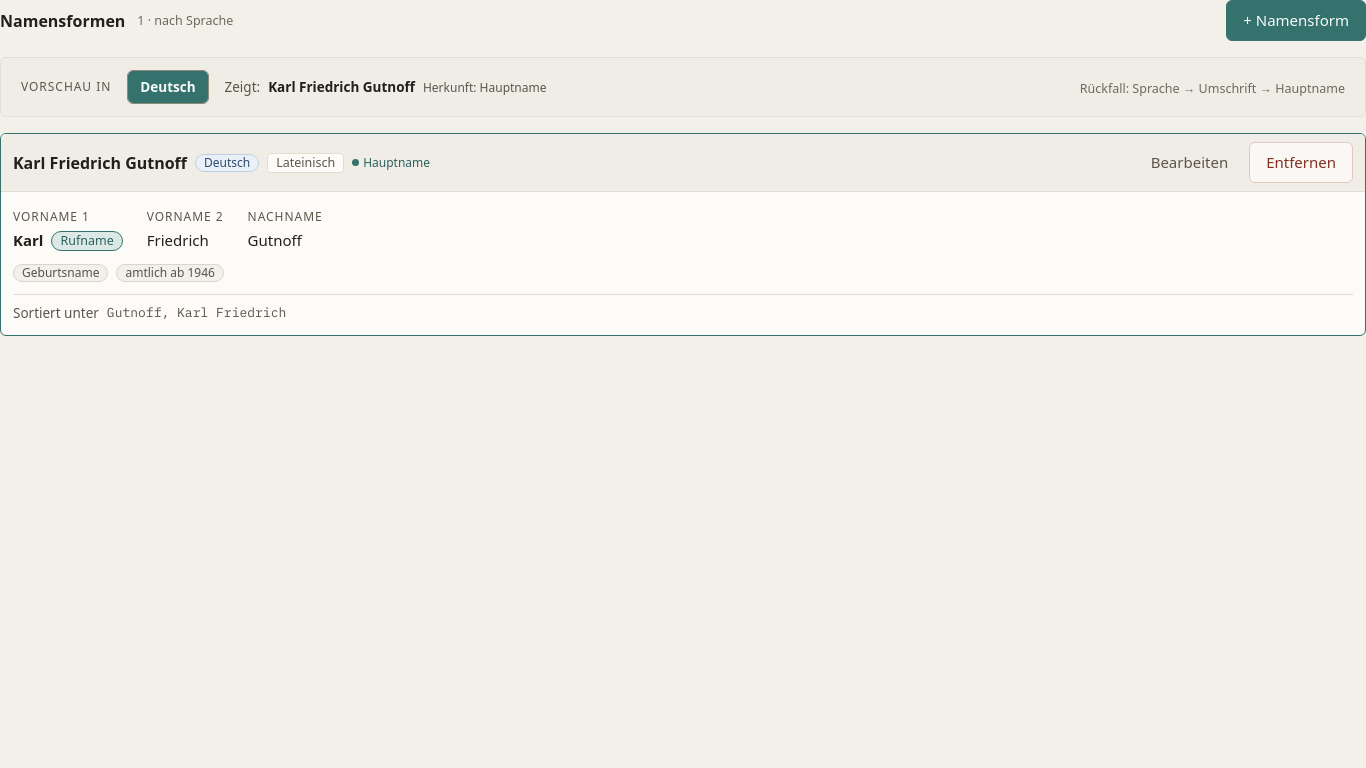
ReiterNamen › „+ Namensform" öffnet das Modal leer; „Bearbeiten" mit der Form
Click the button "+ Namensform": (1296, 20) [1226, 0, 1365, 41]
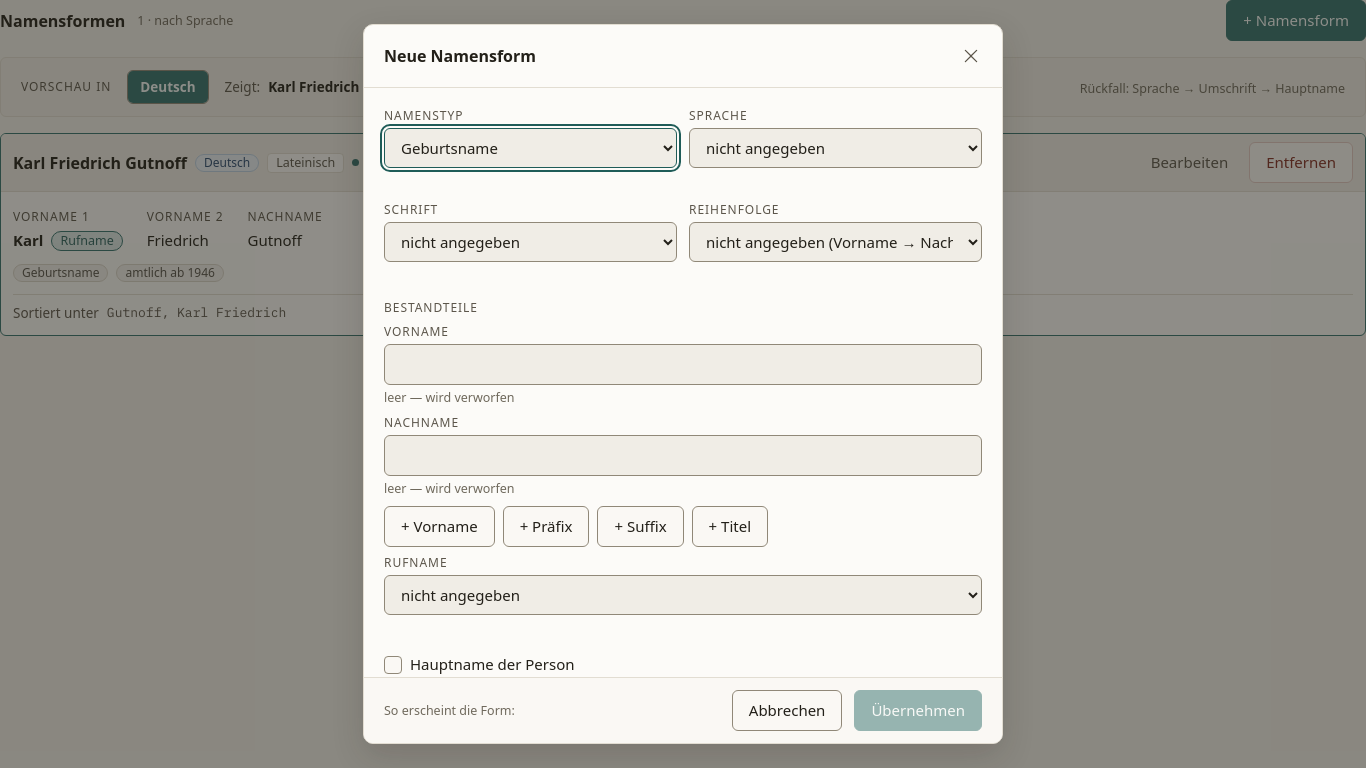
expect the dialog shows "Neue Namensform": met, box [384, 45, 536, 67]
Click the button "Abbrechen": (787, 710) [732, 690, 842, 731]
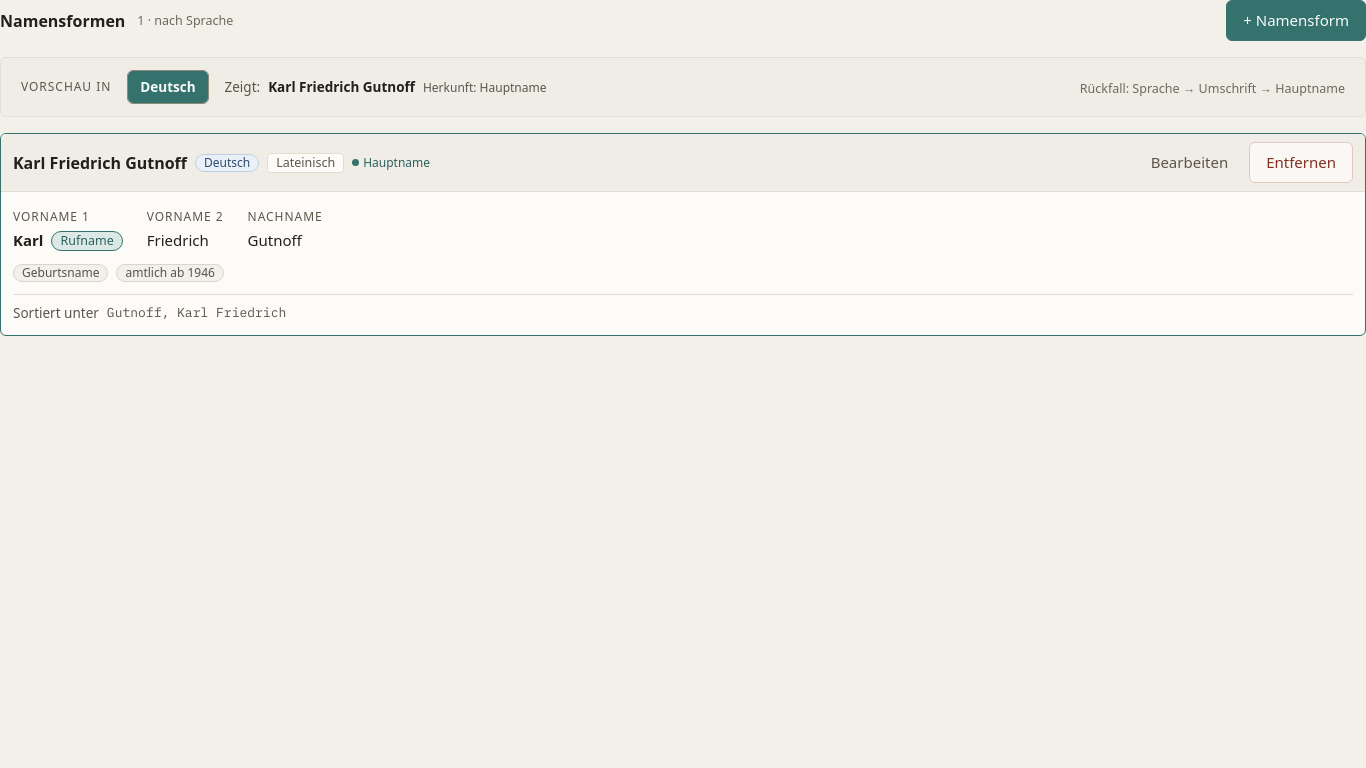
expect the dialog is gone: met
Click the button "Bearbeiten": (1189, 162) [1134, 142, 1245, 183]
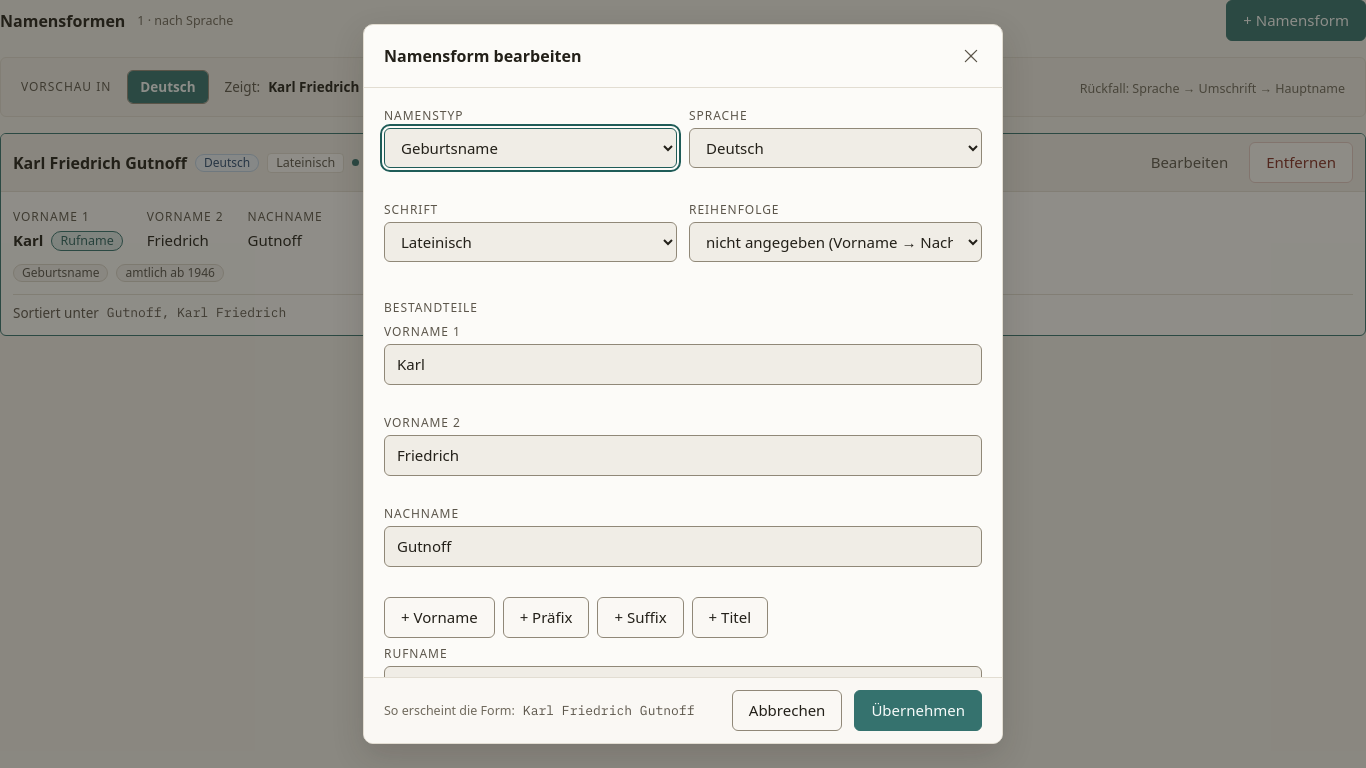
expect the field with id "namensform-teil-t3" holds "Gutnoff": met, box [384, 526, 982, 567]
